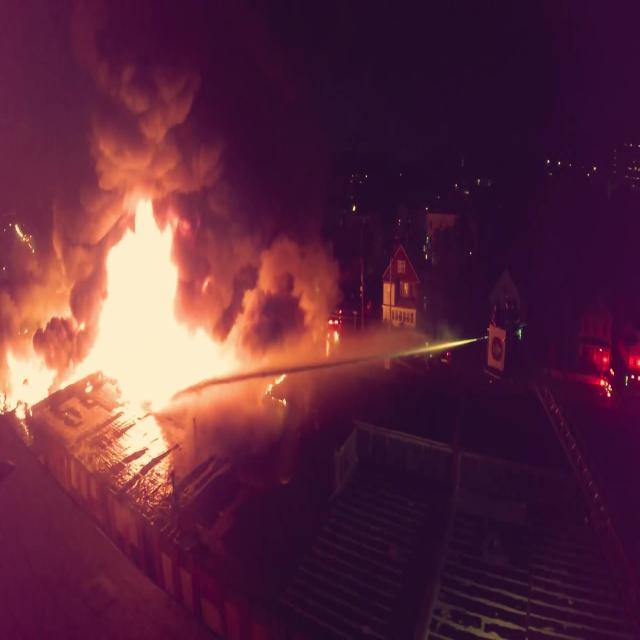fire: (90, 240, 257, 427)
smoke: (65, 27, 236, 196)
